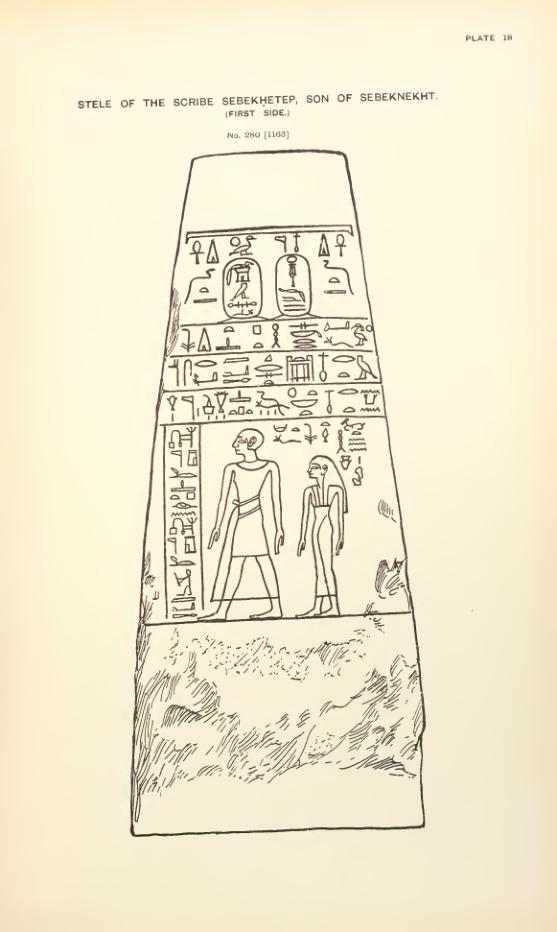circle: (272, 253, 318, 318), (222, 255, 266, 320)
